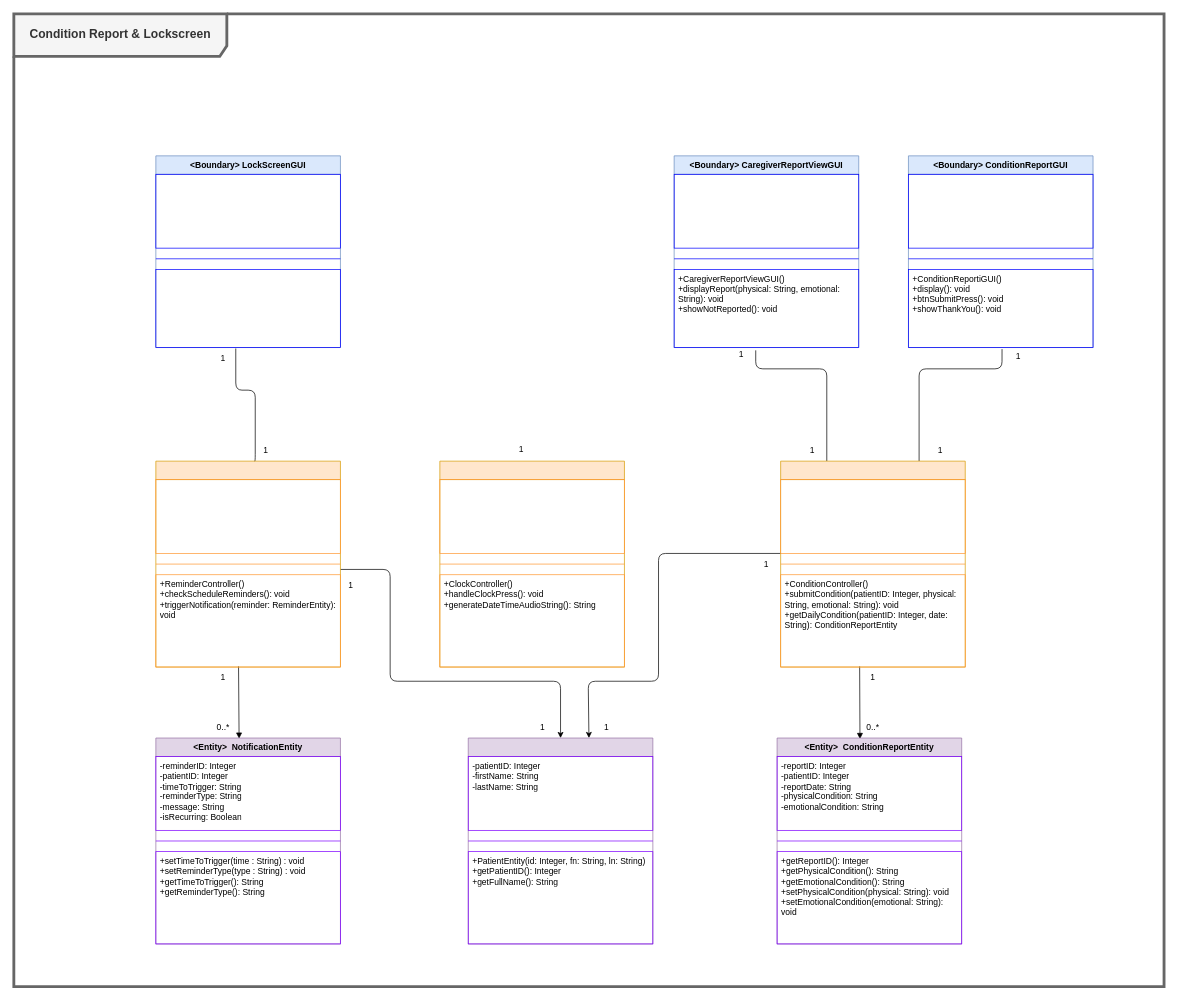
The diagram is 1177 pixels wide and 1000 high, and some of its shapes have lost their labels. Here are the shapes that lost their labels. From the top down, the box of each, then its label:
(155, 174, 340, 248): -lblNotificationtext: Label
(673, 174, 859, 248): -lblPhysical: Label -lblEmotional: Label
(908, 174, 1093, 248): -ddlPhysical: DropDown -ddlEmotional: DropDown -btnSubmit: Button
(155, 269, 340, 348): +LockScreenGUI() +showReminderNotification(message: String): void
(155, 460, 340, 667): <Controller> ReminderController
(439, 460, 624, 667): <Controller> ClockController
(780, 460, 965, 667): <Controller> ConditionController
(468, 737, 653, 944): <Entity> PatientEntity
